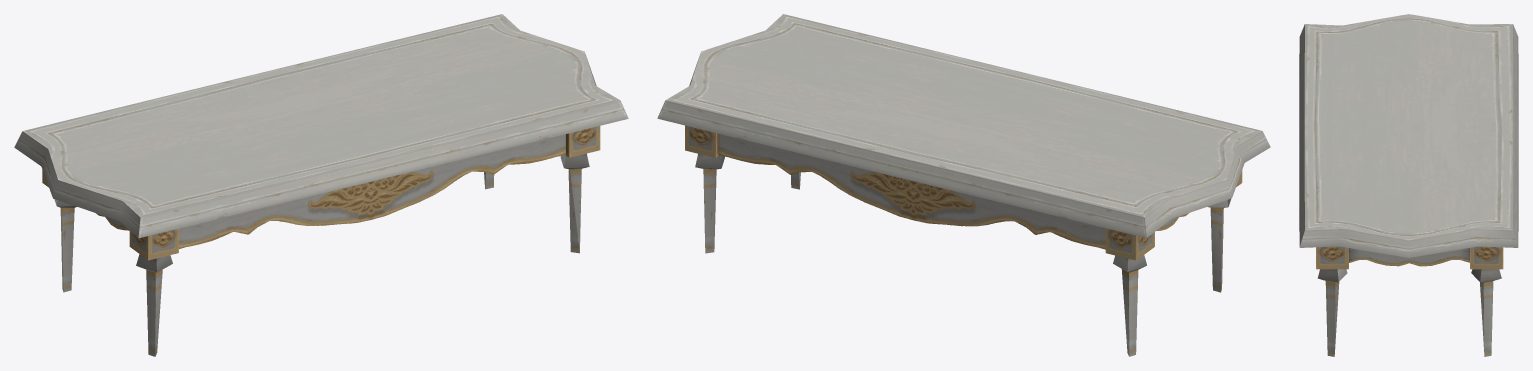
The model's file is ty_zhuozi01.fbx.
The picture shows the model from 3 angles, left to right: view 1: azimuth 30°, elevation 25°; view 2: azimuth 150°, elevation 25°; view 3: azimuth 270°, elevation 25°; orthographic projection. The views are drawn at different scales.
Parts seen in each view (by area): view 1: s4studio_mesh_2; view 2: s4studio_mesh_2; view 3: s4studio_mesh_2.
Part boxes in pixels (bbox=[...]): s4studio_mesh_2: bbox=[14, 14, 628, 356]; s4studio_mesh_2: bbox=[657, 14, 1270, 356]; s4studio_mesh_2: bbox=[1299, 14, 1518, 356].
Size of the model in its own units: 177 by 49.11 by 71.15.
1 material, 1 textured.
